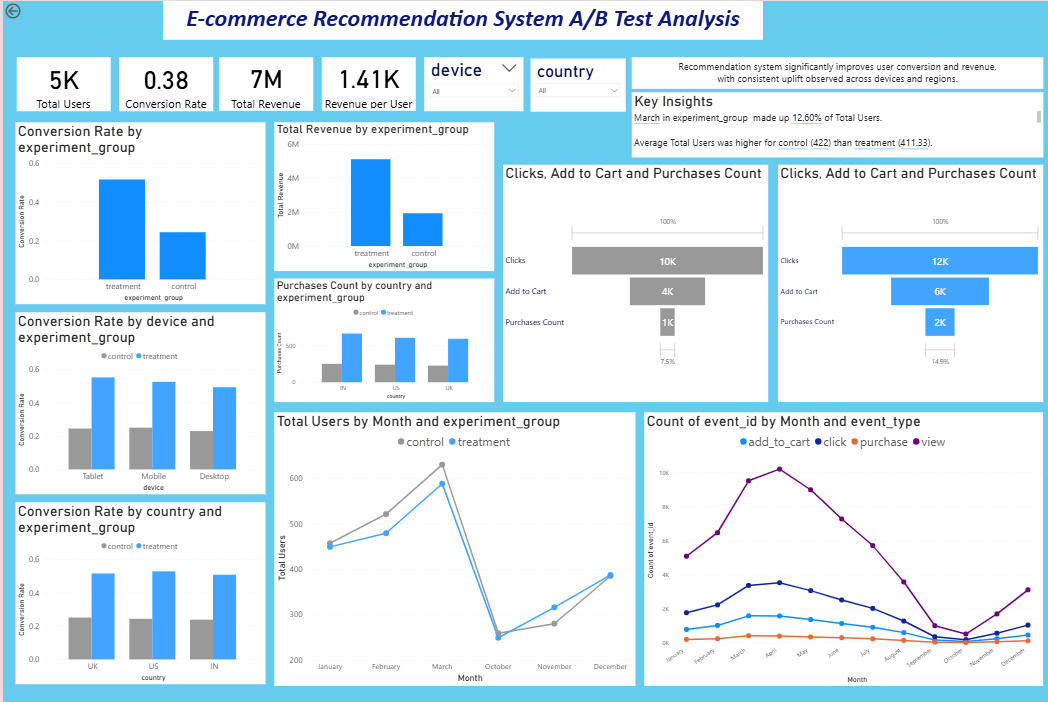

The dashboard page shown, as its layout file describes it:
{"tool":"powerbi","page":{"name":"Page 1","canvas":[2095,1403],"ordinal":0},"visuals":[{"type":"textbox","box":[320,0,1200,77.5],"z":0},{"type":"card","fields":{"Values":["experiment_assignments.Total Users"]},"box":[27.1,112.2,187.6,108],"z":1000},{"type":"card","fields":{"Values":["experiment_assignments.Conversion Rate"]},"box":[233.2,112.2,187.6,108],"z":2000},{"type":"card","fields":{"Values":["experiment_assignments.Total Revenue"]},"box":[432.5,112.2,187.6,107],"z":3000},{"type":"card","fields":{"Values":["experiment_assignments.Revenue per User"]},"box":[636.9,112.2,187.6,107],"z":4000},{"type":"clusteredColumnChart","fields":{"Category":["experiment_assignments.experiment_group"],"Y":["experiment_assignments.Conversion Rate"]},"box":[25.7,242.9,500,364.3],"z":5000},{"type":"columnChart","fields":{"Category":["experiment_assignments.experiment_group"],"Y":["experiment_assignments.Total Revenue"]},"box":[542.5,242.5,440,297.5],"z":6000},{"type":"funnel","fields":{"Y":["experiment_assignments.Clicks","experiment_assignments.Add to Cart","experiment_assignments.Purchases Count"]},"box":[1000,328,530,474],"z":7000},{"type":"actionButton","box":[0,0,100,40],"z":8000},{"type":"clusteredColumnChart","fields":{"Category":["users.device"],"Y":["experiment_assignments.Conversion Rate"],"Series":["experiment_assignments.experiment_group"]},"box":[25.7,621.4,500,364.3],"z":9000},{"type":"clusteredColumnChart","fields":{"Category":["users.country"],"Y":["experiment_assignments.Conversion Rate"],"Series":["experiment_assignments.experiment_group"]},"box":[25.7,1002.9,500,364.3],"z":10000},{"type":"lineChart","fields":{"Category":["users.signup_date.Variation.Date Hierarchy.Month"],"Y":["experiment_assignments.Total Users"],"Series":["experiment_assignments.experiment_group"]},"box":[542.5,822.5,722.5,547.5],"z":11000},{"type":"lineChart","fields":{"Category":["user_activity.event_time.Variation.Date Hierarchy.Month"],"Y":["Count(user_activity.event_id)"],"Series":["user_activity.event_type"]},"box":[1282.5,822.5,797.5,547.5],"z":12000},{"type":"clusteredColumnChart","fields":{"Category":["users.country"],"Y":["experiment_assignments.Purchases Count"],"Series":["experiment_assignments.experiment_group"]},"box":[542.5,555,440,247.5],"z":13000},{"type":"funnel","fields":{"Y":["experiment_assignments.Clicks","experiment_assignments.Add to Cart","experiment_assignments.Purchases Count"]},"box":[1550,328,530,474],"z":14000},{"type":"slicer","fields":{"Values":["users.country"]},"box":[1054,114,190,106],"z":15000},{"type":"slicer","fields":{"Values":["users.device"]},"box":[842,112,198,108],"z":16000},{"type":"textbox","title":"Key Insights","box":[1256.7,183.3,823.3,130],"z":17000},{"type":"textbox","box":[1256.7,113.3,823.3,63.3],"z":18000}]}

Visuals, with their boxes in screenshot pixels (x1, y1, x2, y2), scaled from the page's 2095x1403 canvas onto the 1048x702 screenshot:
textbox: (160, 0, 760, 39)
card - experiment_assignments.Total Users: (14, 56, 107, 110)
card - experiment_assignments.Conversion Rate: (117, 56, 211, 110)
card - experiment_assignments.Total Revenue: (216, 56, 310, 110)
card - experiment_assignments.Revenue per User: (319, 56, 412, 110)
clusteredColumnChart - experiment_assignments.experiment_group x experiment_assignments.Conversion Rate: (13, 122, 263, 304)
columnChart - experiment_assignments.experiment_group x experiment_assignments.Total Revenue: (271, 121, 491, 270)
funnel - experiment_assignments.Clicks x experiment_assignments.Add to Cart: (500, 164, 765, 401)
actionButton: (0, 0, 50, 20)
clusteredColumnChart - users.device x experiment_assignments.Conversion Rate: (13, 311, 263, 493)
clusteredColumnChart - users.country x experiment_assignments.Conversion Rate: (13, 502, 263, 684)
lineChart - users.signup_date.Variation.Date Hierarchy.Month x experiment_assignments.Total Users: (271, 412, 633, 685)
lineChart - user_activity.event_time.Variation.Date Hierarchy.Month x Count(user_activity.event_id): (642, 412, 1040, 685)
clusteredColumnChart - users.country x experiment_assignments.Purchases Count: (271, 278, 491, 402)
funnel - experiment_assignments.Clicks x experiment_assignments.Add to Cart: (775, 164, 1040, 401)
slicer - users.country: (527, 57, 622, 110)
slicer - users.device: (421, 56, 520, 110)
"Key Insights" textbox: (629, 92, 1040, 157)
textbox: (629, 57, 1040, 88)
